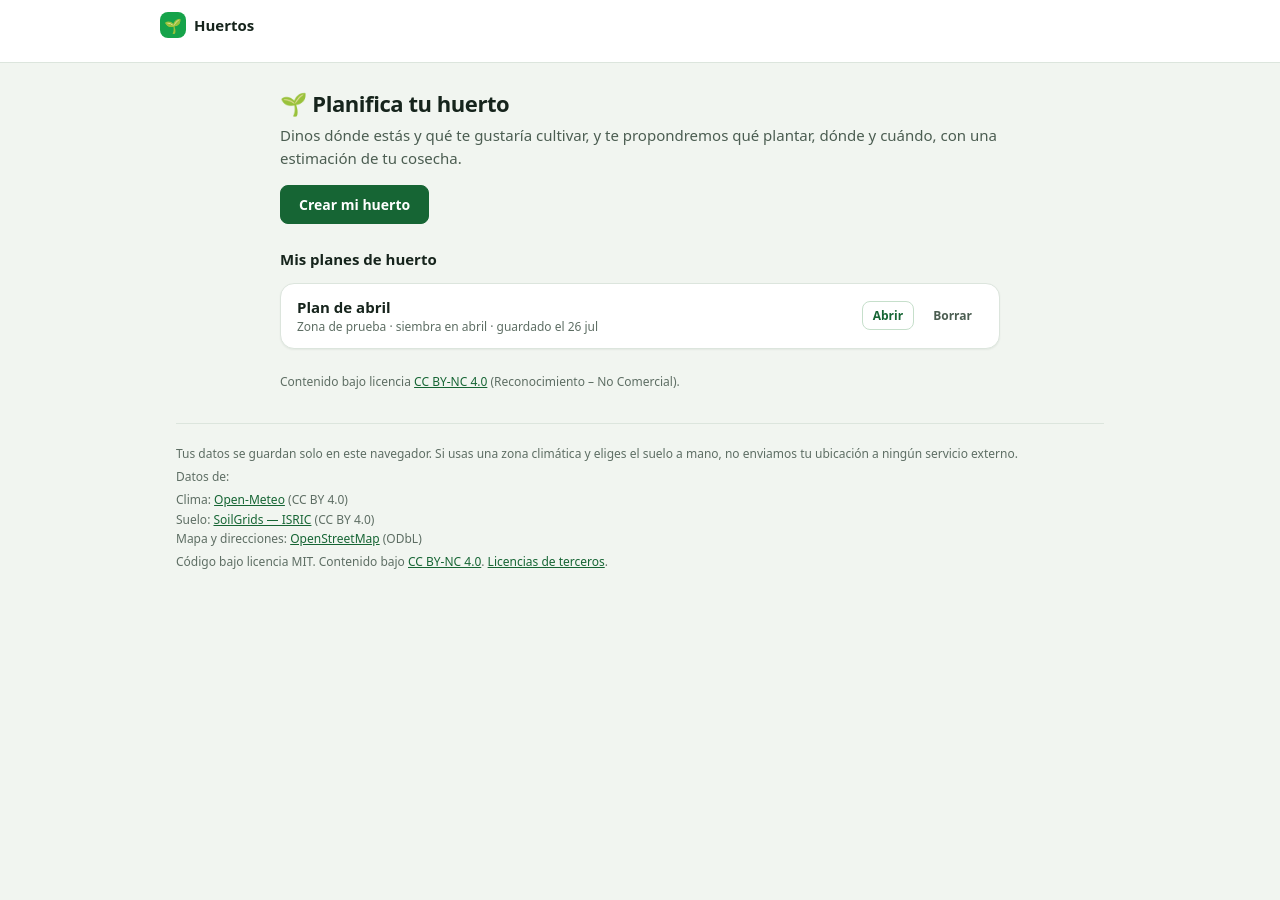
it: un plan guardado reproduce el mismo resultado sin importar el mes actual
Click the button "Abrir" at (888, 316), box [862,301,914,330]
(page scrolled)
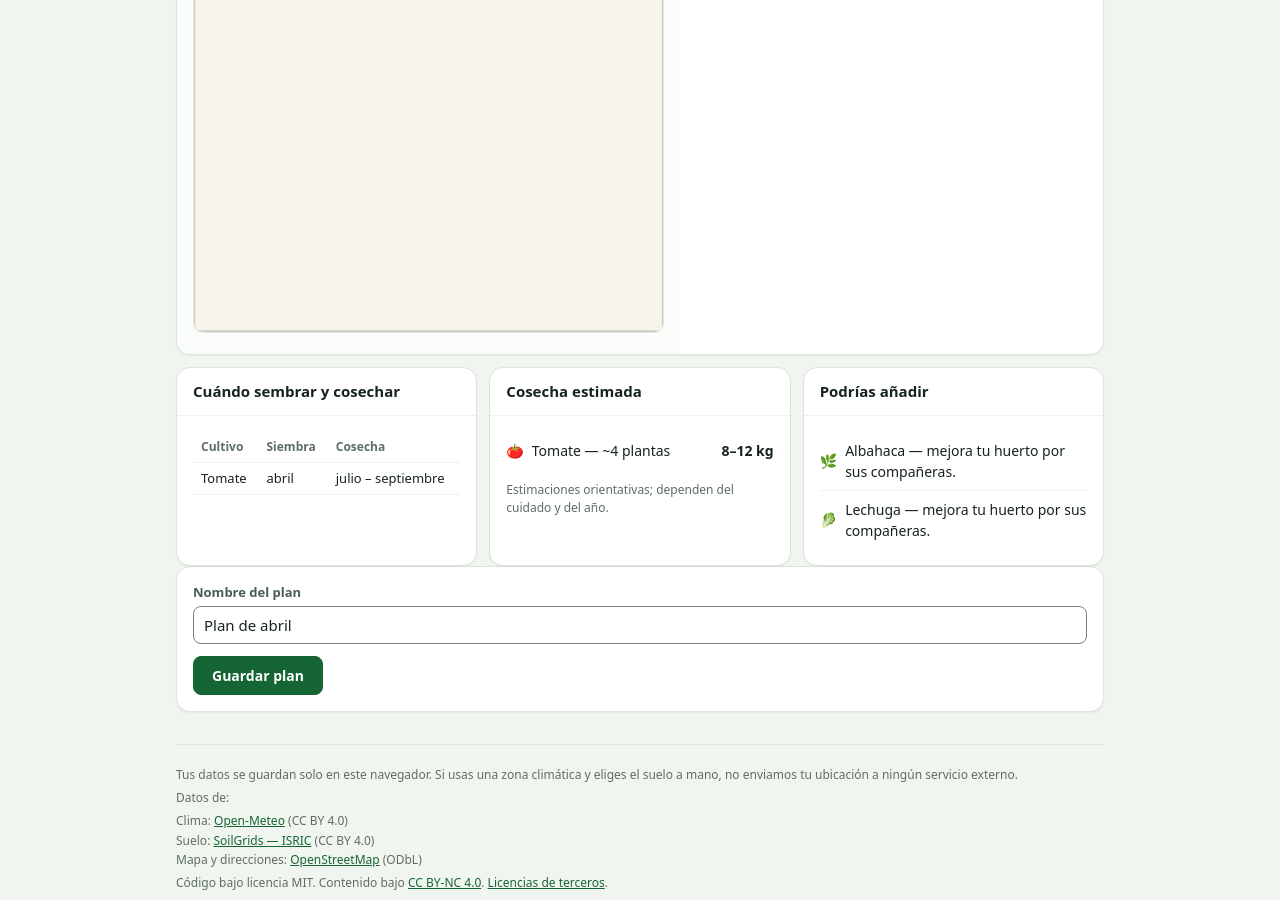
Now the list item "🍅 Tomate — ~4 plantas 8–12 kg" is shown, box [506,440,774,460]
